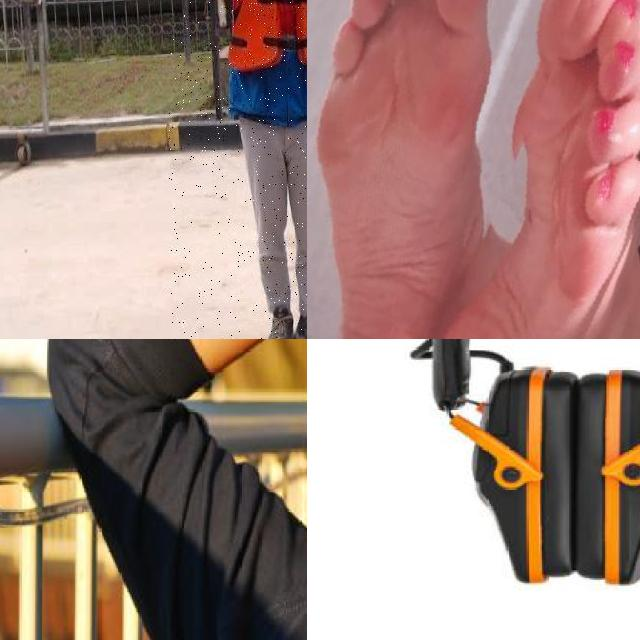Barefoots: (307, 0, 500, 339), (449, 0, 640, 339)
Ear-protection: (420, 339, 640, 594)
boots: (264, 300, 295, 339)
person: (169, 0, 307, 339)
vest: (230, 0, 307, 120)
